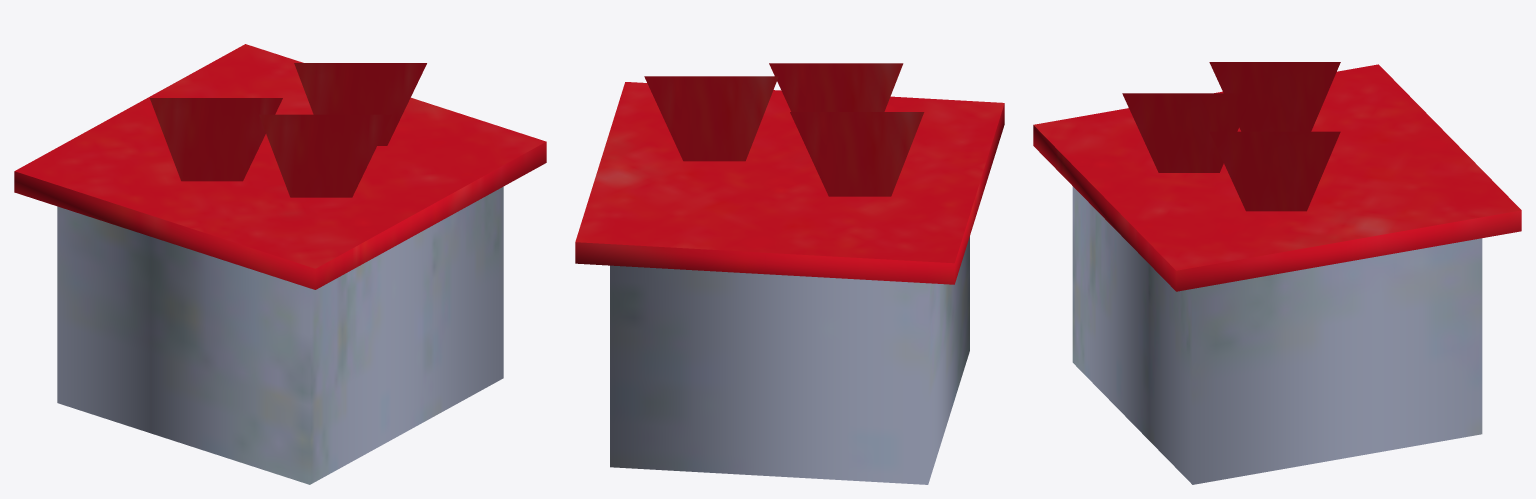
The model's file is refuel-area-tank-top-cbj_LOD03.gltf.
3 renders of one model, left to right at view 1: azimuth 30°, elevation 25°; view 2: azimuth 150°, elevation 25°; view 3: azimuth 270°, elevation 25°, orthographic. The views are drawn at different scales.
Visible parts, largest first — view 1: Cube03; view 2: Cube03; view 3: Cube03.
Boxes of the visible parts, x1,y1,x2,y2 form: Cube03: (14, 44, 546, 484); Cube03: (575, 63, 1004, 484); Cube03: (1033, 62, 1521, 484).
Size of what is drawn, in the model's own units: 1.69 by 1.22 by 1.69.
